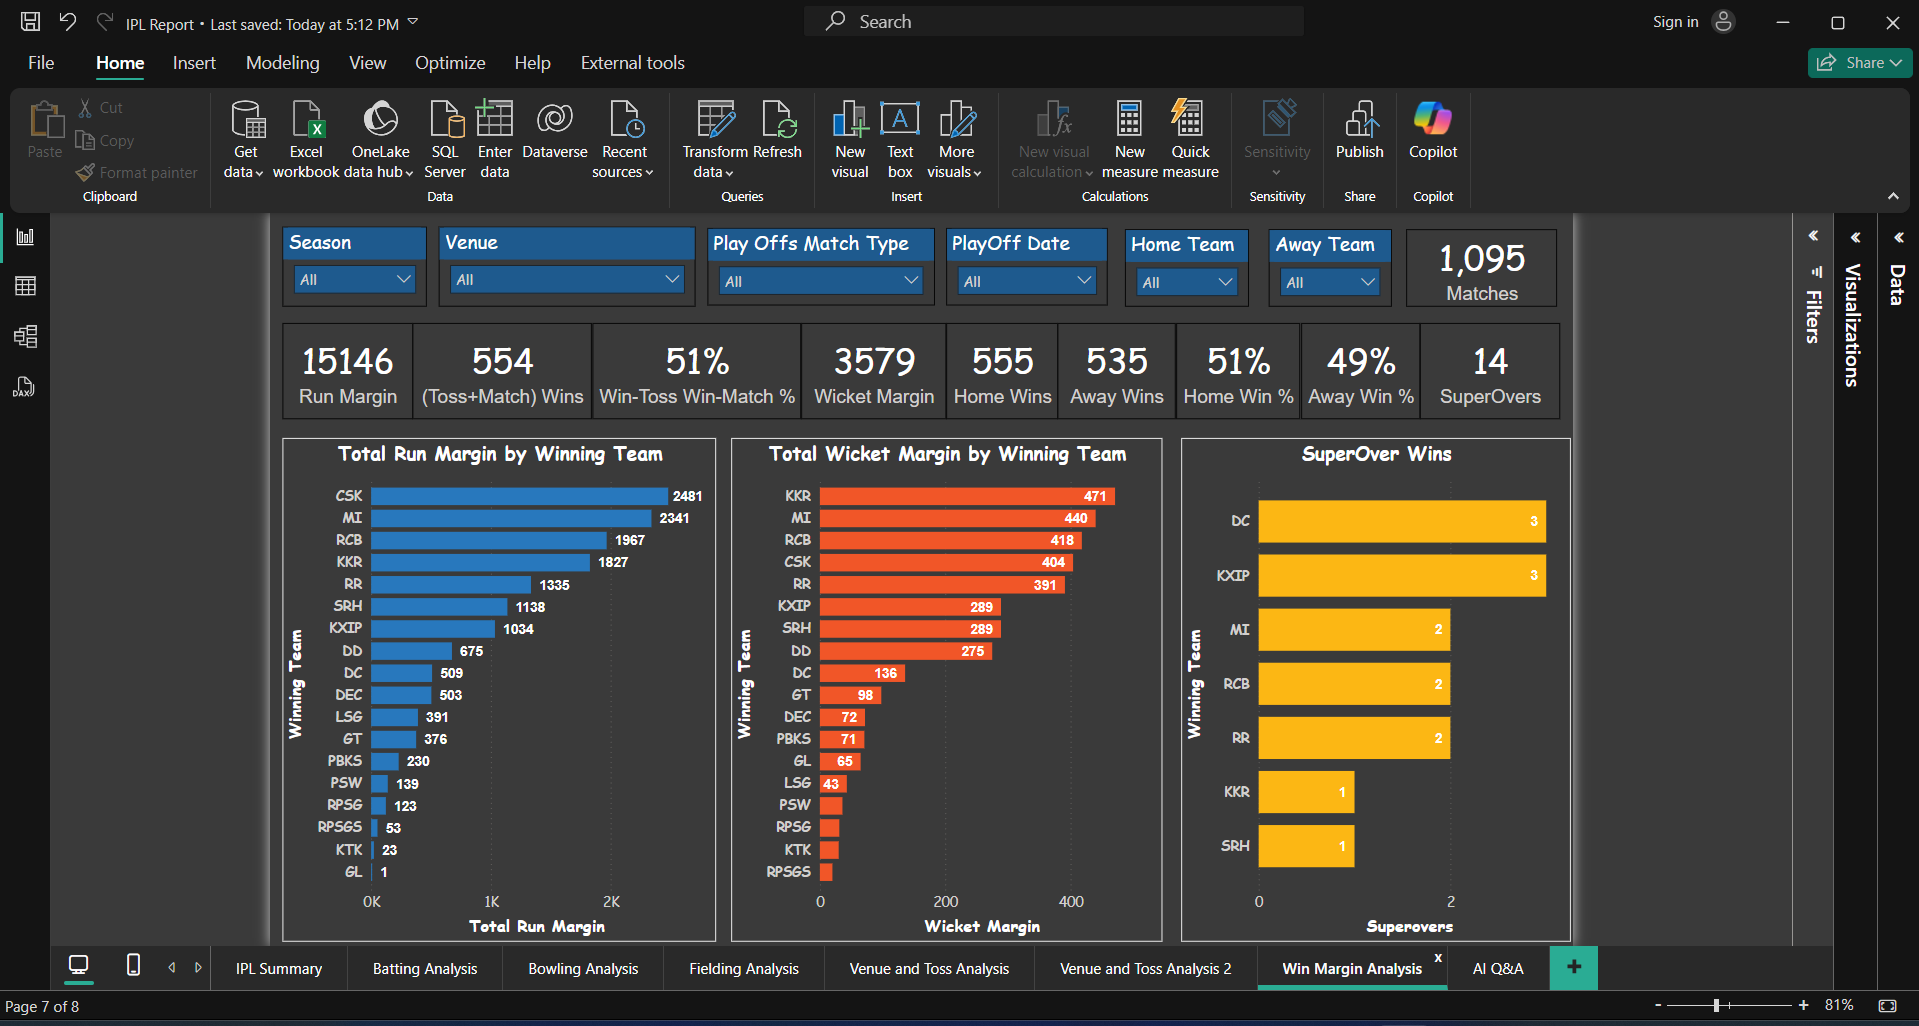

The page's visual inventory and layout, read from the dashboard file:
{"tool":"powerbi","page":{"name":"Win Margin Analysis","canvas":[1280,720],"ordinal":6},"visuals":[{"type":"barChart","title":"Total Run Margin by Winning Team","fields":{"Series":["IPL_Matches.WonBy"],"Y":["Sum(IPL_Matches.Margin)"],"Category":["IPL_Matches.Winning Team (SF)"]},"box":[12.7,220.6,426,494.5],"z":0},{"type":"barChart","title":"Total Wicket Margin by Winning Team","fields":{"Series":["IPL_Matches.WonBy"],"Y":["Sum(IPL_Matches.Margin)"],"Category":["IPL_Matches.Winning Team (SF)"]},"box":[452.3,220.7,423.3,494.5],"z":1000},{"type":"barChart","title":"SuperOver Wins ","fields":{"Series":["IPL_Matches.WonBy"],"Category":["IPL_Matches.Winning Team (SF)"],"Y":["CountNonNull(IPL_Matches.WonBy)"]},"box":[894.9,220.7,382.3,494.5],"z":2000},{"type":"card","fields":{"Values":["Count(IPL_Ball_by_Ball.ID)"]},"box":[1115.7,16.5,148.3,76.1],"z":3000},{"type":"card","fields":{"Values":["IPL_Ball_by_Ball.SuperOvers"]},"box":[1128.8,108.5,137.5,94.1],"z":4000},{"type":"slicer","title":"Play Offs Match Type","fields":{"Values":["IPL_Matches.MatchNumber"]},"box":[429.8,15.2,223.1,76.1],"z":5000},{"type":"slicer","title":"PlayOff Date","fields":{"Values":["IPL_Matches.Date"]},"box":[664.3,15.2,158.5,76.1],"z":6000},{"type":"slicer","title":"Venue","fields":{"Values":["IPL_Matches.Venue"]},"box":[166.1,13.9,252.3,78.6],"z":7000},{"type":"slicer","title":"Season","fields":{"Values":["IPL_Matches.Season"]},"box":[12.7,13.9,142,78.6],"z":8000},{"type":"card","fields":{"Values":["IPL_Matches.Run Margin"]},"box":[12.2,108,127.8,94.3],"z":9000},{"type":"card","fields":{"Values":["IPL_Matches.Wicket Margin"]},"box":[521,108.5,142.3,94.1],"z":10000},{"type":"slicer","title":"Home Team","fields":{"Values":["IPL_Matches.Home Team (SF)"]},"box":[839.3,16.5,121.7,76.1],"z":11000},{"type":"slicer","title":"Away Team","fields":{"Values":["IPL_Matches.Away Team (SF)"]},"box":[980,16.5,120.4,76.1],"z":12000},{"type":"card","fields":{"Values":["Sum(IPL_Matches.IsTossWinnerMatchWinner)"]},"box":[139.9,108.5,176.1,94.1],"z":13000},{"type":"card","fields":{"Values":["IPL_Matches.WTWM %"]},"box":[316,108.5,205,94.1],"z":14000},{"type":"card","fields":{"Values":["Sum(IPL_Matches.IsHomeTeamWinner)"]},"box":[663.3,108.5,109.7,94.1],"z":15000},{"type":"card","fields":{"Values":["Sum(IPL_Matches.IsAwayTeamWinner)"]},"box":[773.1,108.5,115.8,94.1],"z":16000},{"type":"card","fields":{"Values":["IPL_Matches.Home Win %"]},"box":[890.1,108.5,121.8,94.1],"z":17000},{"type":"card","fields":{"Values":["IPL_Matches.Away Win %"]},"box":[1011.9,108.5,117,94.1],"z":18000}]}

Visuals, with their boxes on the page's 1280x720 design canvas (x1, y1, x2, y2). These are canvas units, not pixel positions in the 1919x1026 screenshot, which may show the page scaled, cropped or inside an application window:
"Total Run Margin by Winning Team" barChart: <bbox>13, 221, 439, 715</bbox>
"Total Wicket Margin by Winning Team" barChart: <bbox>452, 221, 876, 715</bbox>
"SuperOver Wins " barChart: <bbox>895, 221, 1277, 715</bbox>
card - Count(IPL_Ball_by_Ball.ID): <bbox>1116, 16, 1264, 93</bbox>
card - IPL_Ball_by_Ball.SuperOvers: <bbox>1129, 108, 1266, 203</bbox>
"Play Offs Match Type" slicer: <bbox>430, 15, 653, 91</bbox>
"PlayOff Date" slicer: <bbox>664, 15, 823, 91</bbox>
"Venue" slicer: <bbox>166, 14, 418, 92</bbox>
"Season" slicer: <bbox>13, 14, 155, 92</bbox>
card - IPL_Matches.Run Margin: <bbox>12, 108, 140, 202</bbox>
card - IPL_Matches.Wicket Margin: <bbox>521, 108, 663, 203</bbox>
"Home Team" slicer: <bbox>839, 16, 961, 93</bbox>
"Away Team" slicer: <bbox>980, 16, 1100, 93</bbox>
card - Sum(IPL_Matches.IsTossWinnerMatchWinner): <bbox>140, 108, 316, 203</bbox>
card - IPL_Matches.WTWM %: <bbox>316, 108, 521, 203</bbox>
card - Sum(IPL_Matches.IsHomeTeamWinner): <bbox>663, 108, 773, 203</bbox>
card - Sum(IPL_Matches.IsAwayTeamWinner): <bbox>773, 108, 889, 203</bbox>
card - IPL_Matches.Home Win %: <bbox>890, 108, 1012, 203</bbox>
card - IPL_Matches.Away Win %: <bbox>1012, 108, 1129, 203</bbox>
